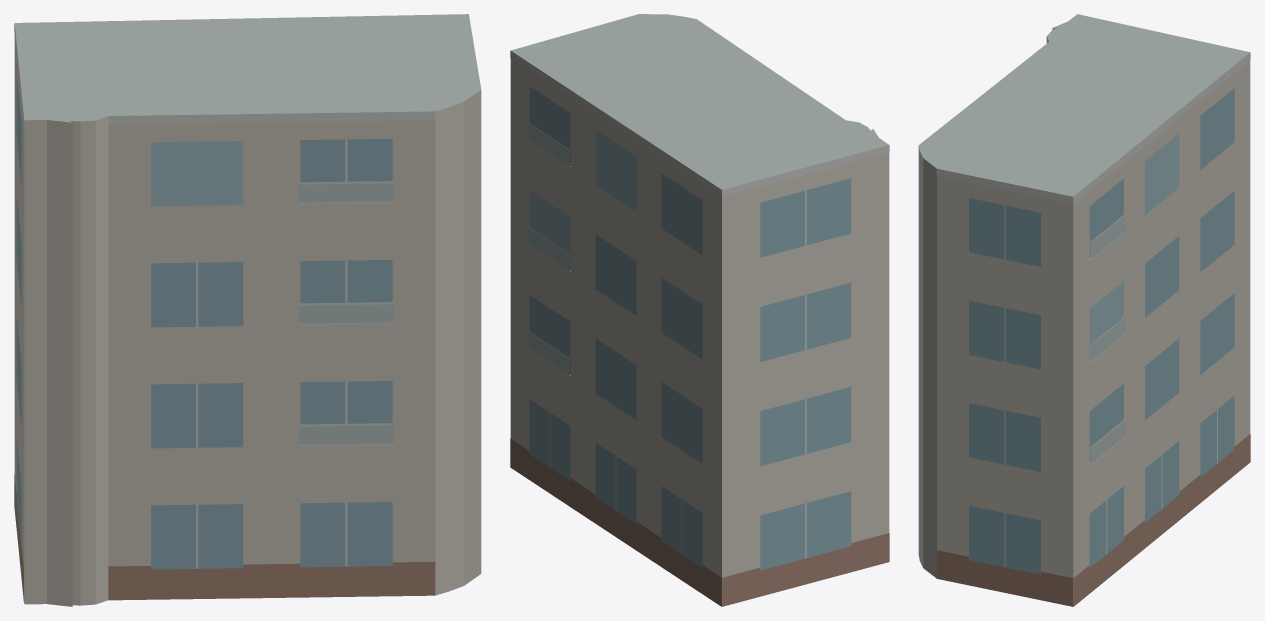
File: survey-upis-33017575.glb
The picture shows the model from 3 angles, left to right: view 1: azimuth 30°, elevation 25°; view 2: azimuth 150°, elevation 25°; view 3: azimuth 270°, elevation 25°; orthographic projection. The views are drawn at different scales.
Parts seen in each view (by area): view 1: survey-upis-33017575.tmp; view 2: survey-upis-33017575.tmp; view 3: survey-upis-33017575.tmp.
Part boxes in pixels (x1,y1,x2,y2): survey-upis-33017575.tmp: (14, 14, 481, 606); survey-upis-33017575.tmp: (510, 14, 889, 606); survey-upis-33017575.tmp: (918, 14, 1250, 606).
Size of the model in its own units: 12.53 by 13.1 by 9.61.
